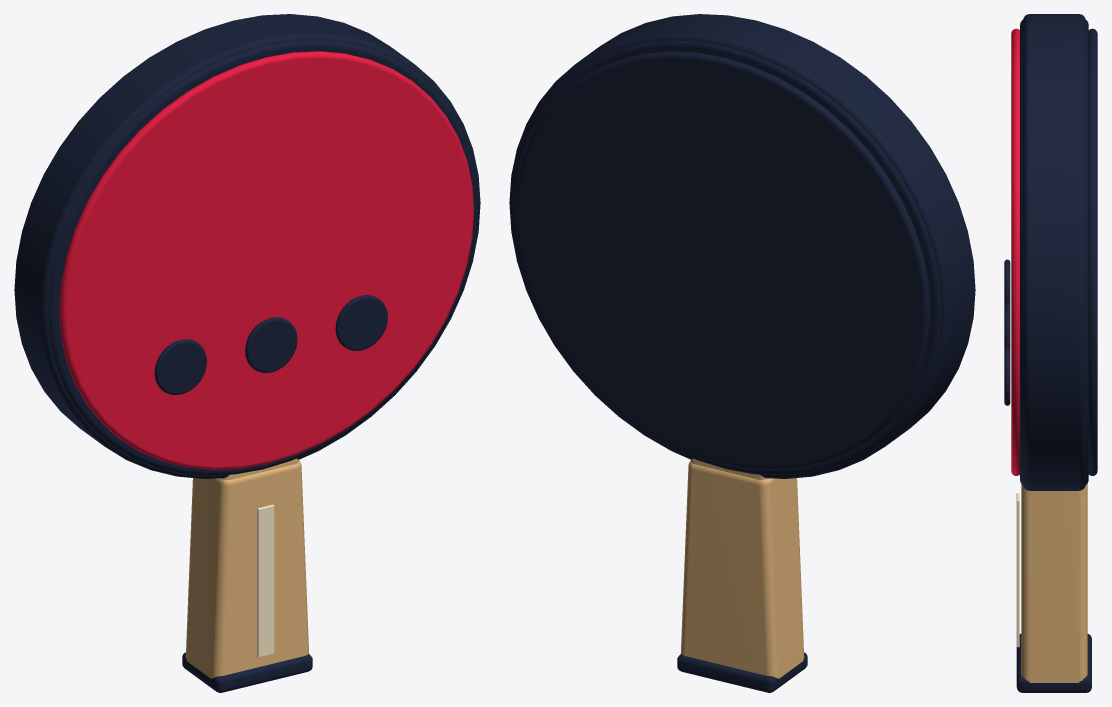
File: TripleServe.glb
3 renders of one model, left to right at view 1: azimuth 30°, elevation 25°; view 2: azimuth 150°, elevation 25°; view 3: azimuth 270°, elevation 25°, orthographic.
Parts seen in each view (by area): view 1: FrontRubber, OuterRim, WoodHandle, RimLip, HandleInlay, ServePort0.14, ServePort-0.14, ServePort0, HandleButt; view 2: BackRubber, OuterRim, WoodHandle, RimLip, HandleButt; view 3: OuterRim, WoodHandle, BackRubber, FrontRubber, RimLip, HandleButt, HandleInlay, ServePort0.14, ServePort-0.14, ServePort0.
Boxes of the visible parts, x1=… form: FrontRubber: x1=59, y1=51, x2=473, y2=469; OuterRim: x1=14, y1=14, x2=480, y2=478; WoodHandle: x1=185, y1=461, x2=309, y2=678; RimLip: x1=48, y1=40, x2=477, y2=475; HandleInlay: x1=257, y1=504, x2=274, y2=657; ServePort0.14: x1=335, y1=295, x2=387, y2=350; ServePort-0.14: x1=154, y1=339, x2=206, y2=394; ServePort0: x1=245, y1=317, x2=297, y2=372; HandleButt: x1=182, y1=652, x2=312, y2=692; BackRubber: x1=516, y1=51, x2=930, y2=469; OuterRim: x1=509, y1=14, x2=975, y2=478; WoodHandle: x1=680, y1=461, x2=804, y2=678; RimLip: x1=512, y1=40, x2=941, y2=475; HandleButt: x1=677, y1=652, x2=807, y2=692; OuterRim: x1=1023, y1=14, x2=1085, y2=490; WoodHandle: x1=1021, y1=483, x2=1087, y2=682; BackRubber: x1=1088, y1=28, x2=1097, y2=475; FrontRubber: x1=1011, y1=28, x2=1019, y2=475; RimLip: x1=1020, y1=20, x2=1088, y2=484; HandleButt: x1=1016, y1=633, x2=1091, y2=692; HandleInlay: x1=1016, y1=493, x2=1019, y2=647; ServePort0.14: x1=1004, y1=347, x2=1010, y2=405; ServePort-0.14: x1=1004, y1=259, x2=1010, y2=305; ServePort0: x1=1004, y1=303, x2=1010, y2=348.
Bounding box in the file's own units: 0.68 × 0.9465 × 0.1262.
